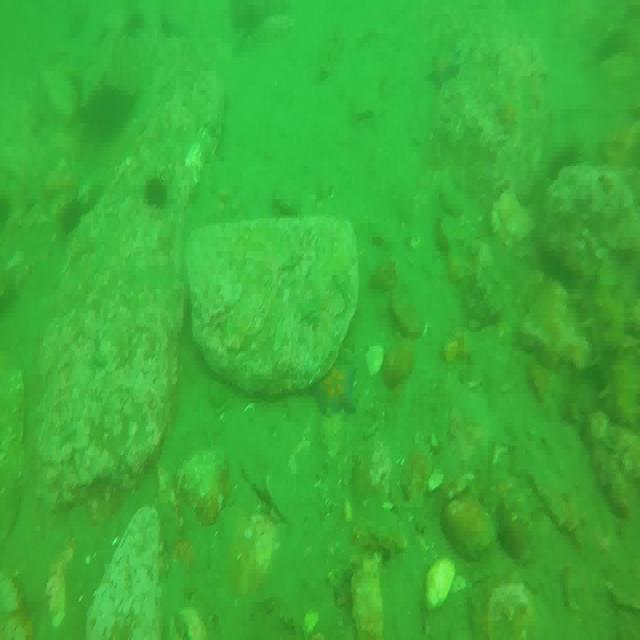echinus: (57, 198, 87, 234), (145, 171, 168, 212)
holothurian: (571, 265, 632, 435)
starfish: (310, 348, 358, 419)
